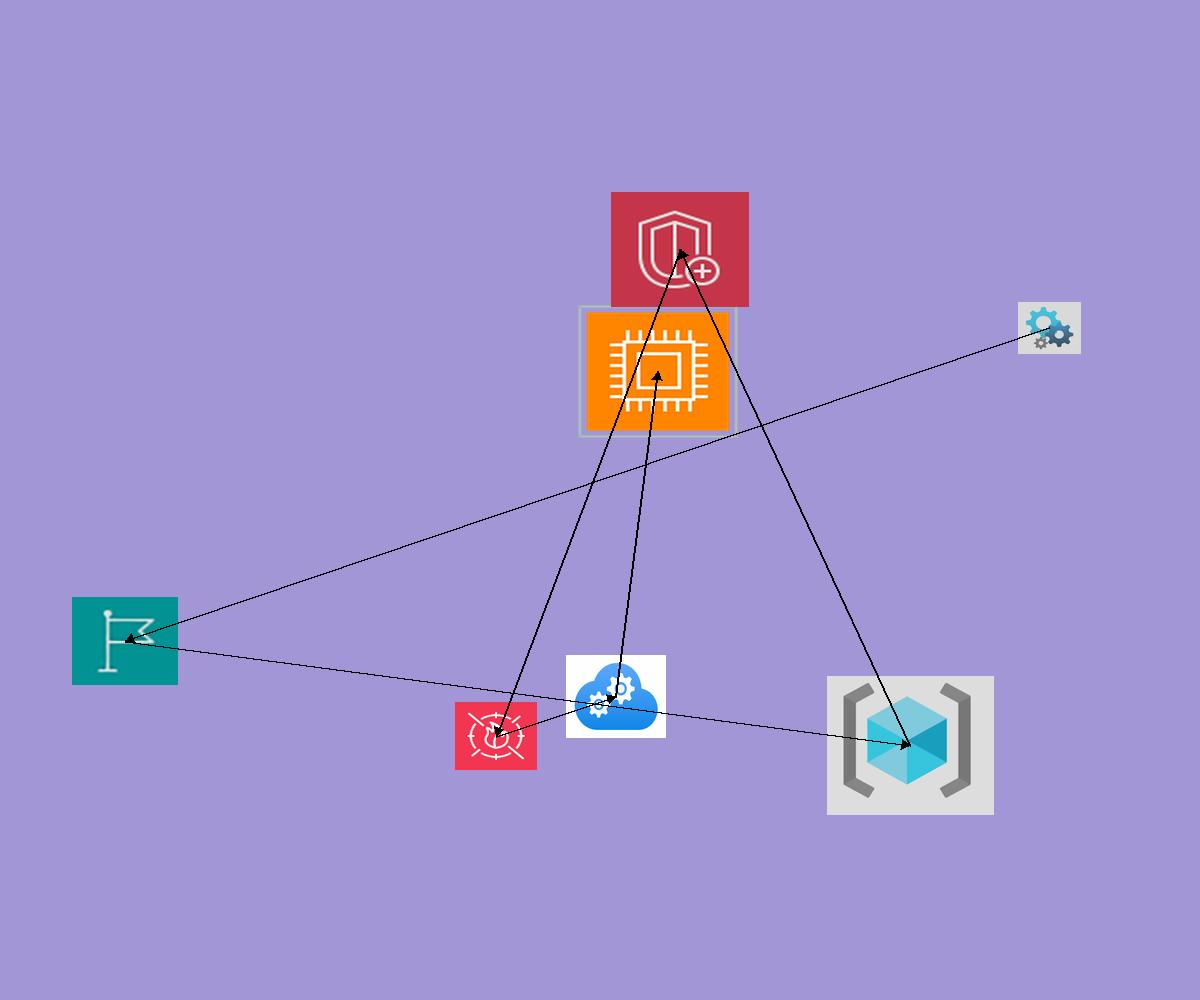AWS-Category_Compute: (578, 305, 738, 438)
AWS-Region: (72, 597, 178, 685)
AWS-Shield: (611, 192, 749, 307)
AWS-WAF: (455, 702, 537, 770)
Azure_api: (1018, 302, 1081, 354)
Azure_cloud_services: (566, 655, 666, 738)
Azure_resource_group: (827, 676, 994, 815)
